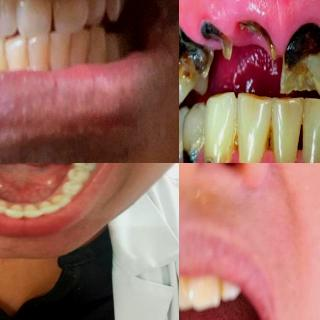Gum Swelling: (235, 0, 320, 53), (179, 0, 238, 42)
cavities: (282, 17, 320, 85), (179, 18, 205, 86), (180, 139, 200, 163)
plaque: (184, 121, 206, 163), (229, 120, 244, 162)
stains: (261, 117, 277, 163)
